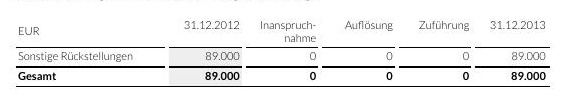table: (0, 0, 562, 99)
